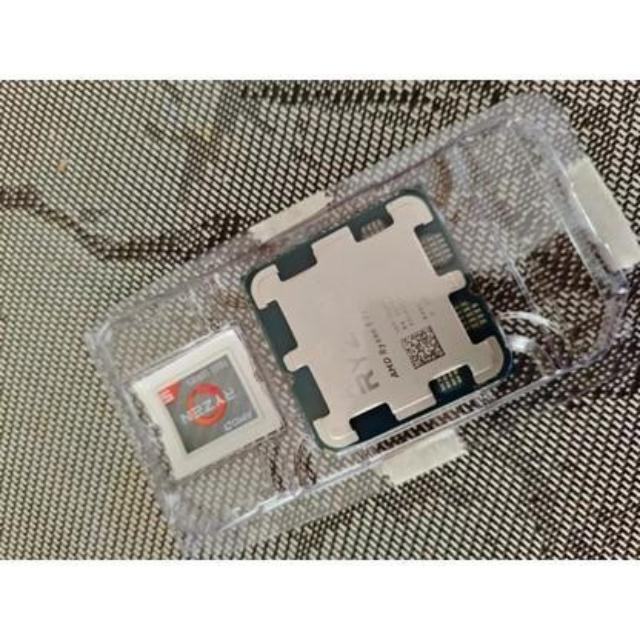CPU: (242, 196, 506, 438)
